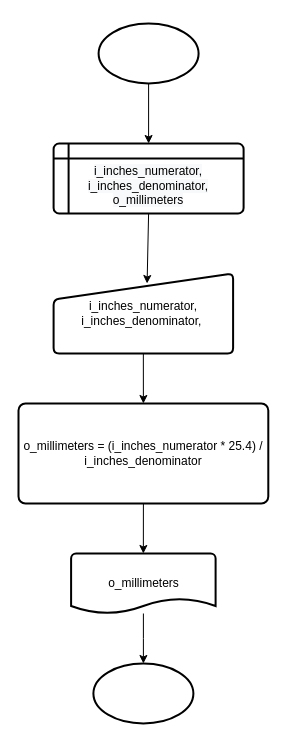
The diagram is 286 pixels wide and 741 high, and some of its shapes have lost their labels. The centre of each missing label's shape, as x and y in pixels:
"End" goes at (143,693).
"Start" goes at (148,53).
